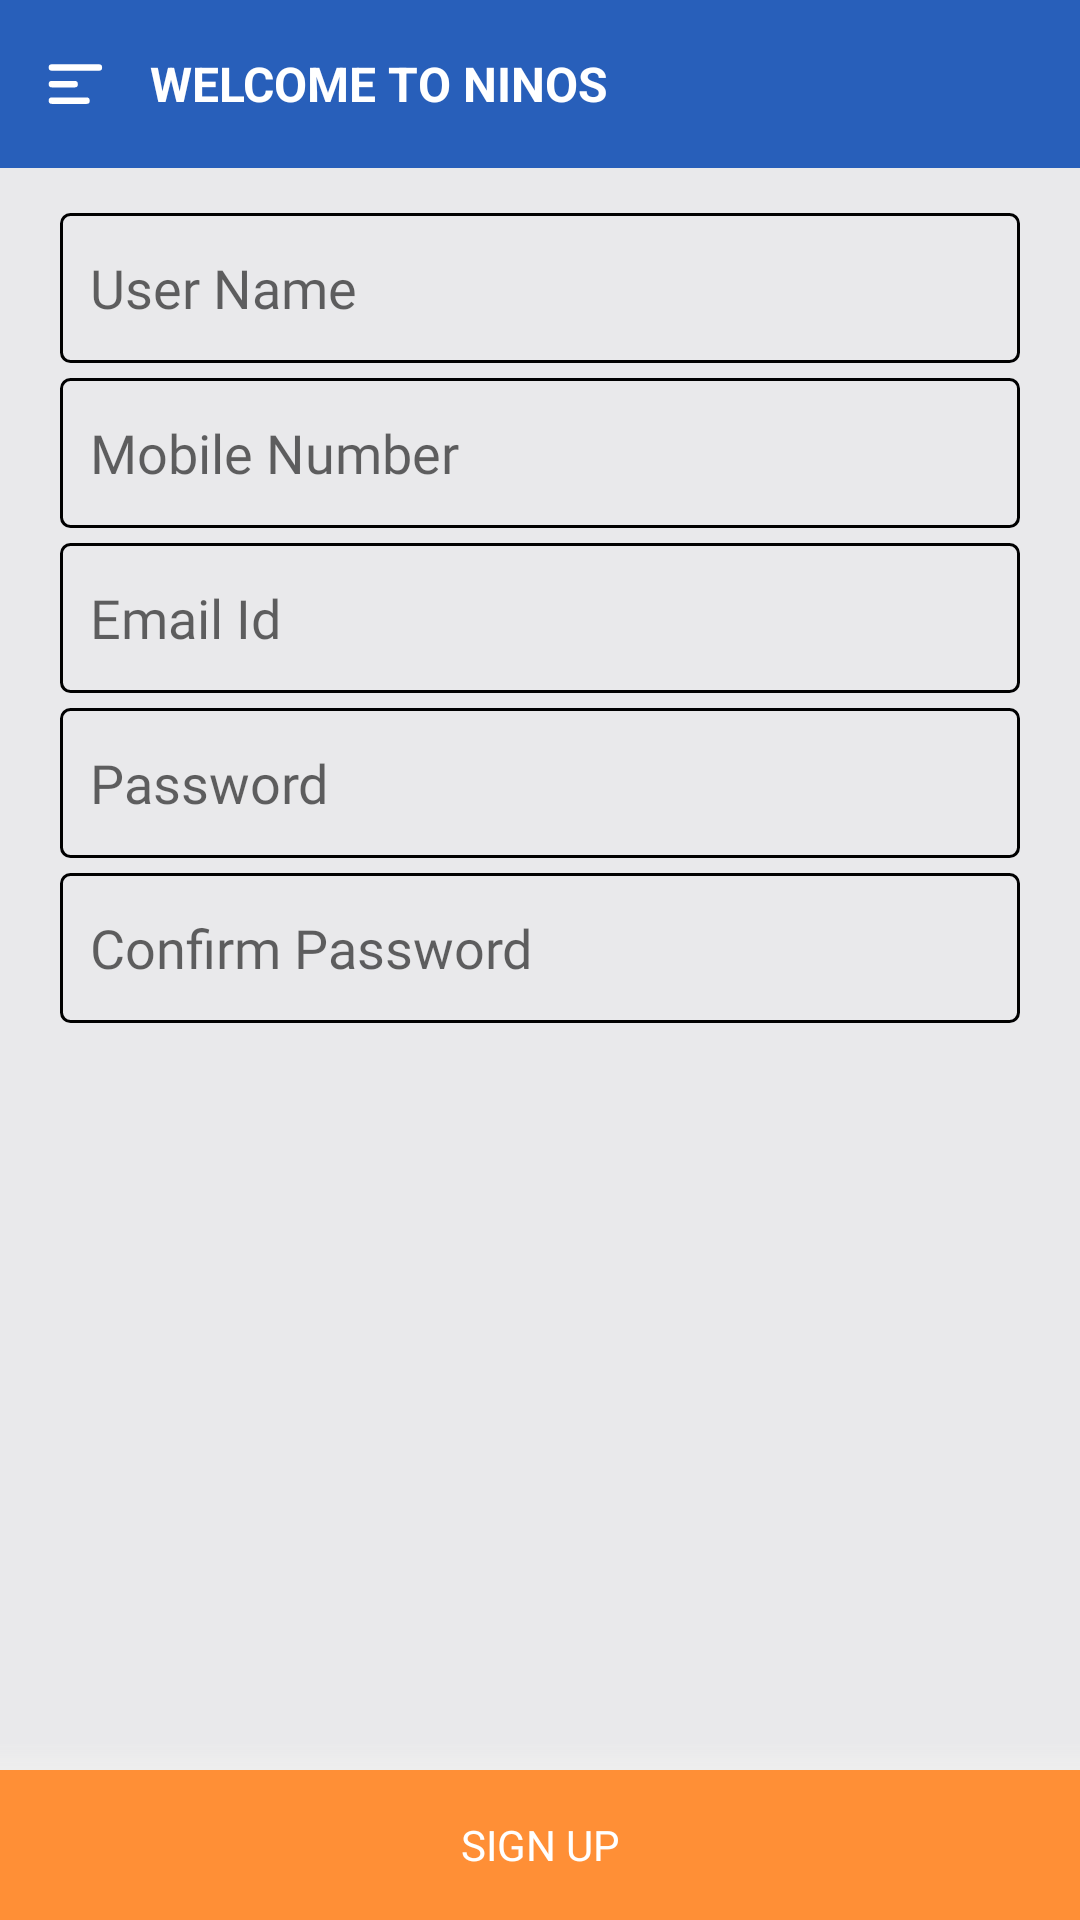

Point at icon controls on the screen. Image size 1080*1920, points as (x=x, y=y).
menu: (x=75, y=84)
